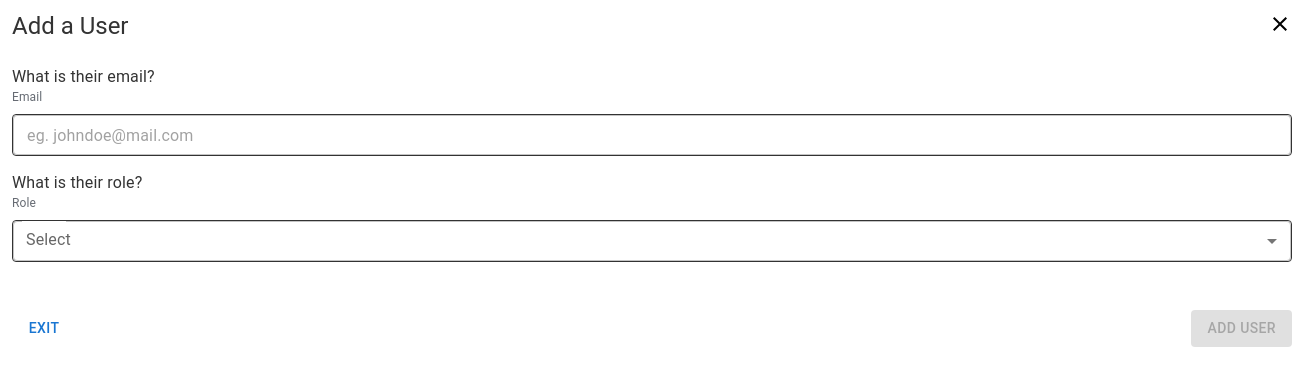
it: Add User Component › should render the entered email and email is not valid
The image size is (1304, 392).
Type "test@test" into the field with placeholder "eg. johndoe@mail.com" at [652, 135], box [13,115,1291,155]
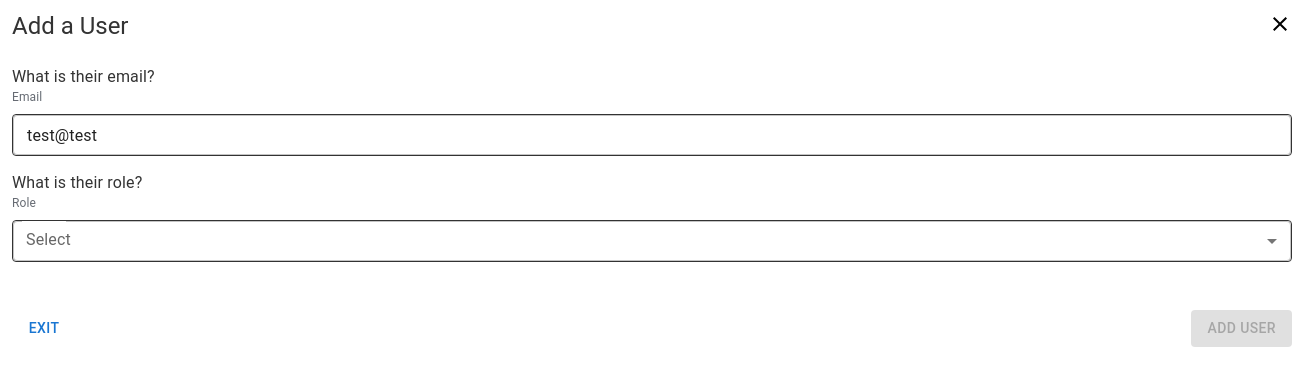
Leave the field with placeholder "eg. johndoe@mail.com", box [13,115,1291,155]
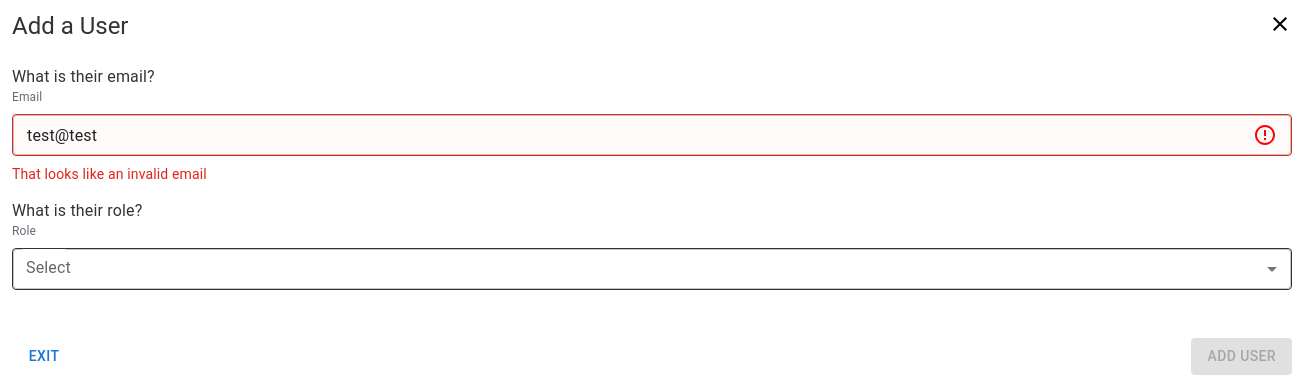
Check: the text "That looks like an invalid email" is shown, box [12,166,207,182]
